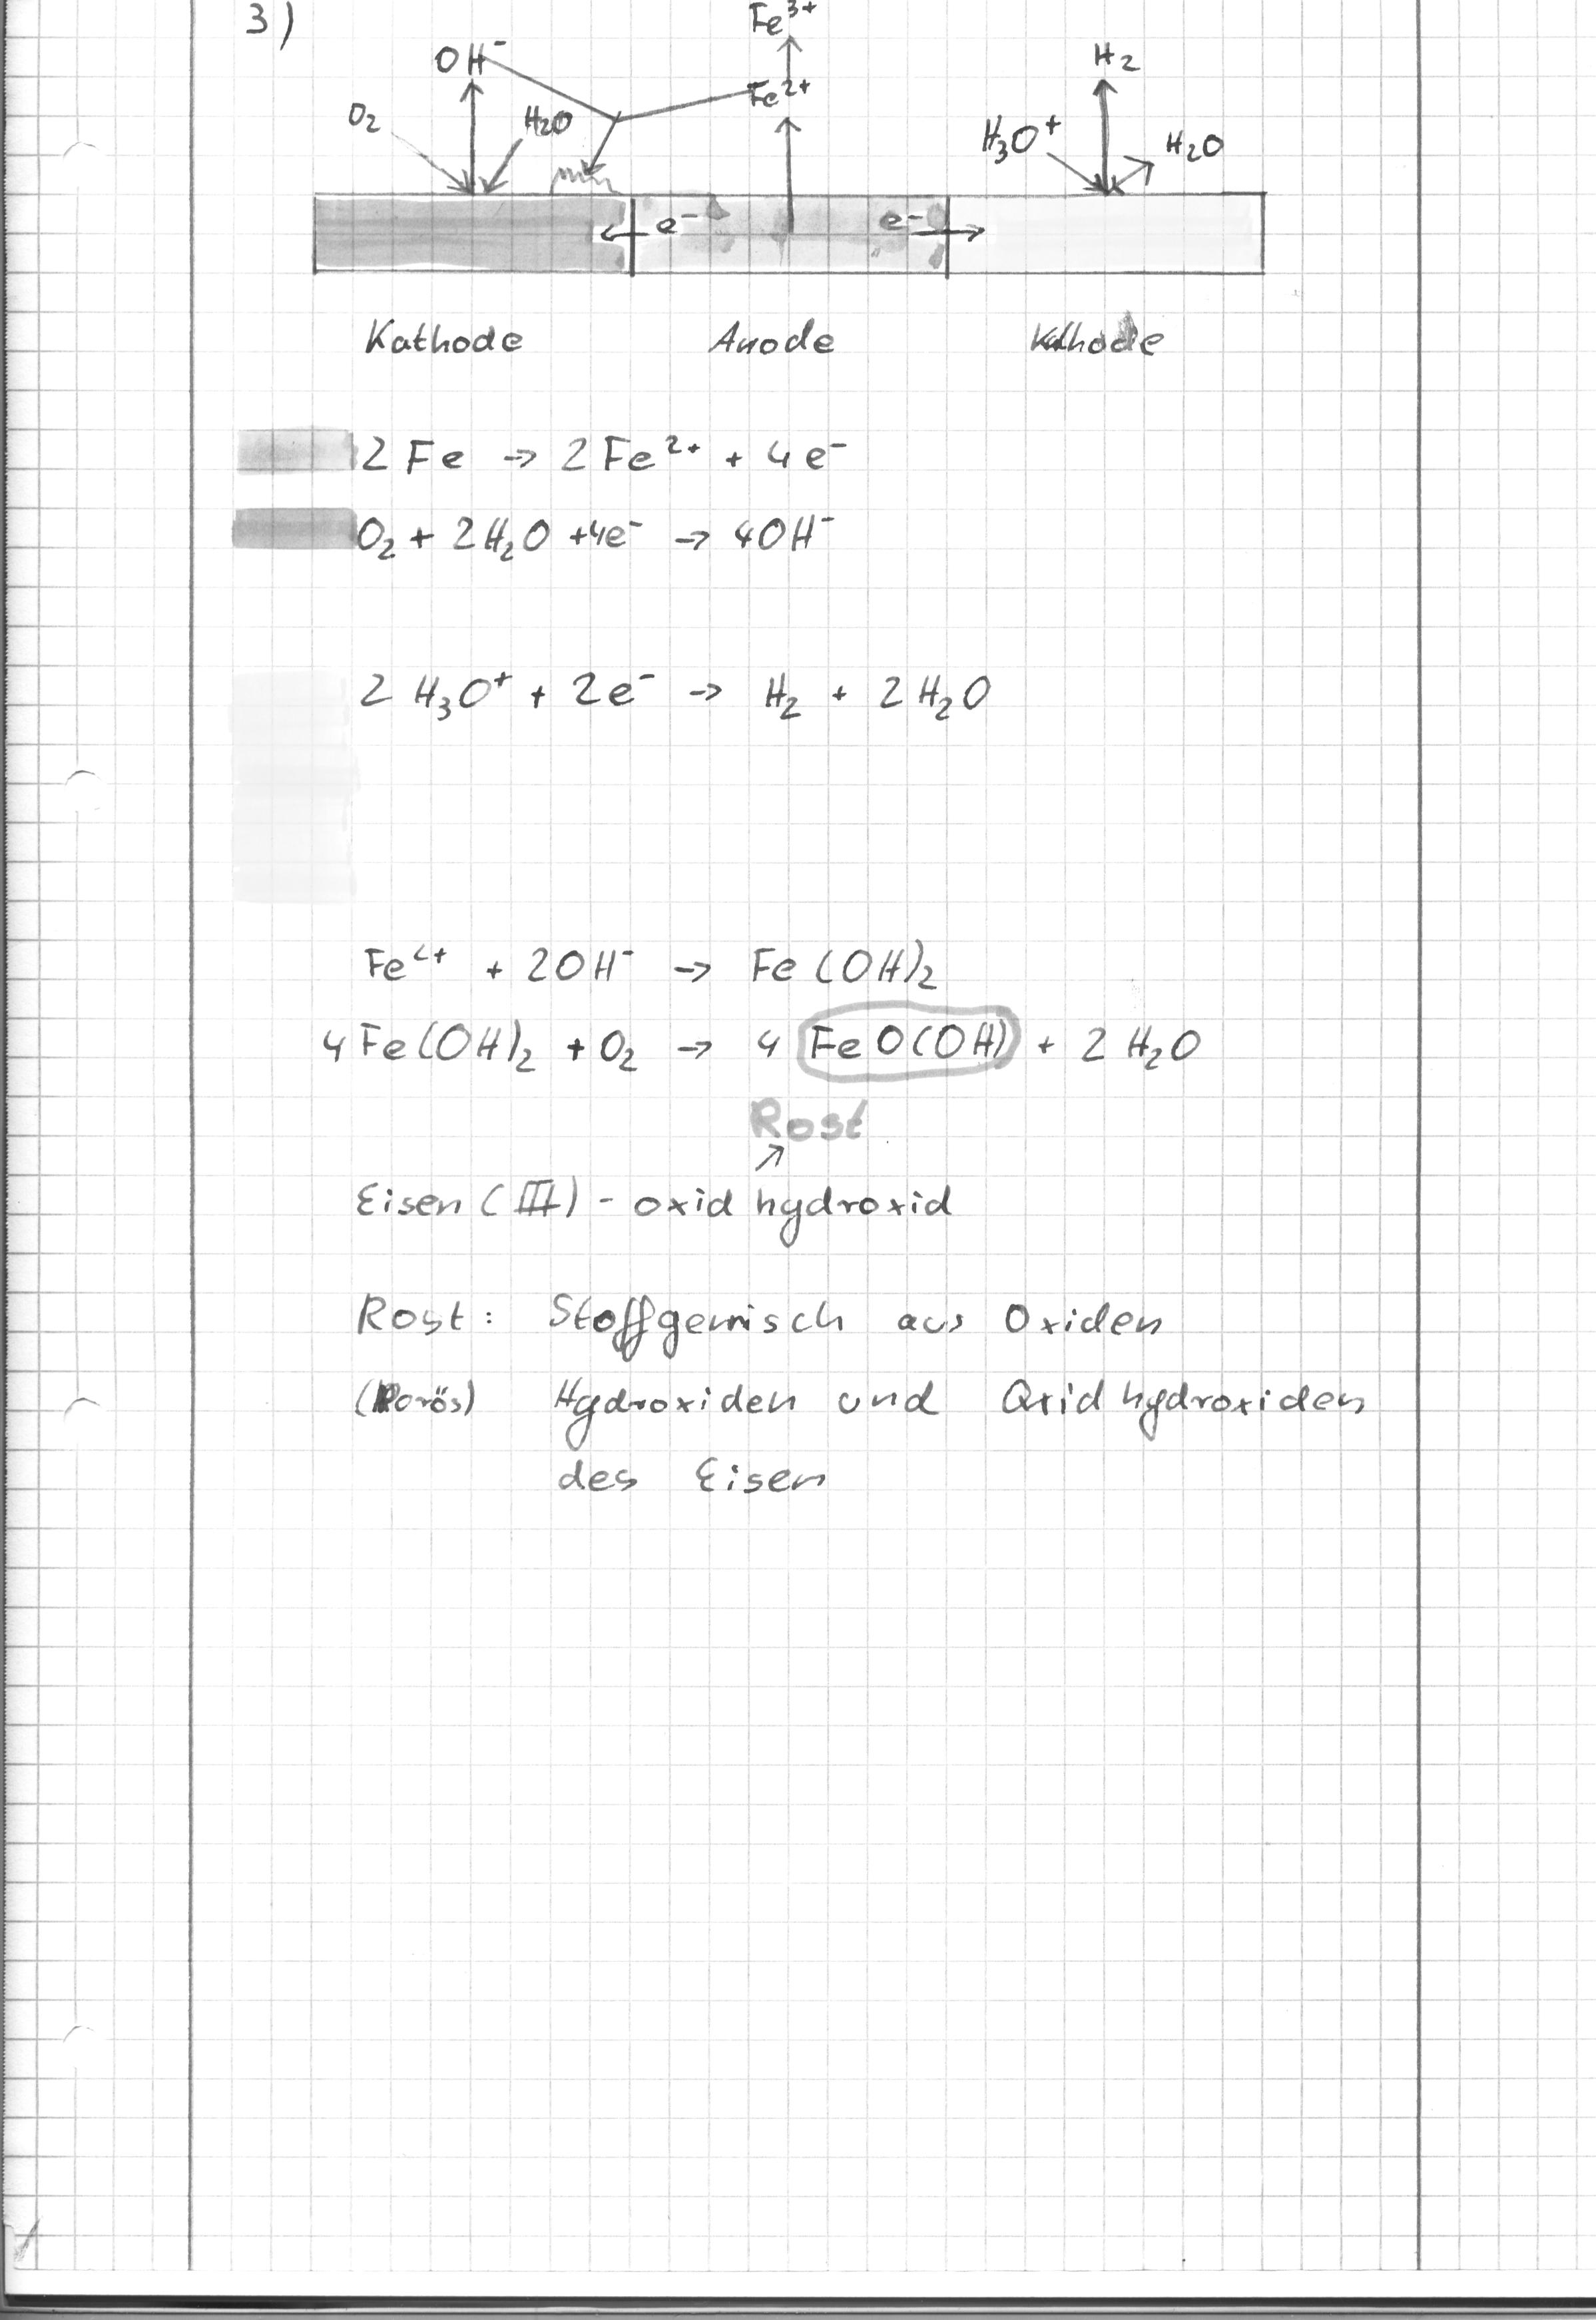word: (347, 1279, 1384, 1518), (310, 929, 1220, 1087), (342, 417, 892, 579), (344, 282, 1200, 373), (347, 639, 1005, 751), (338, 1163, 998, 1253)
